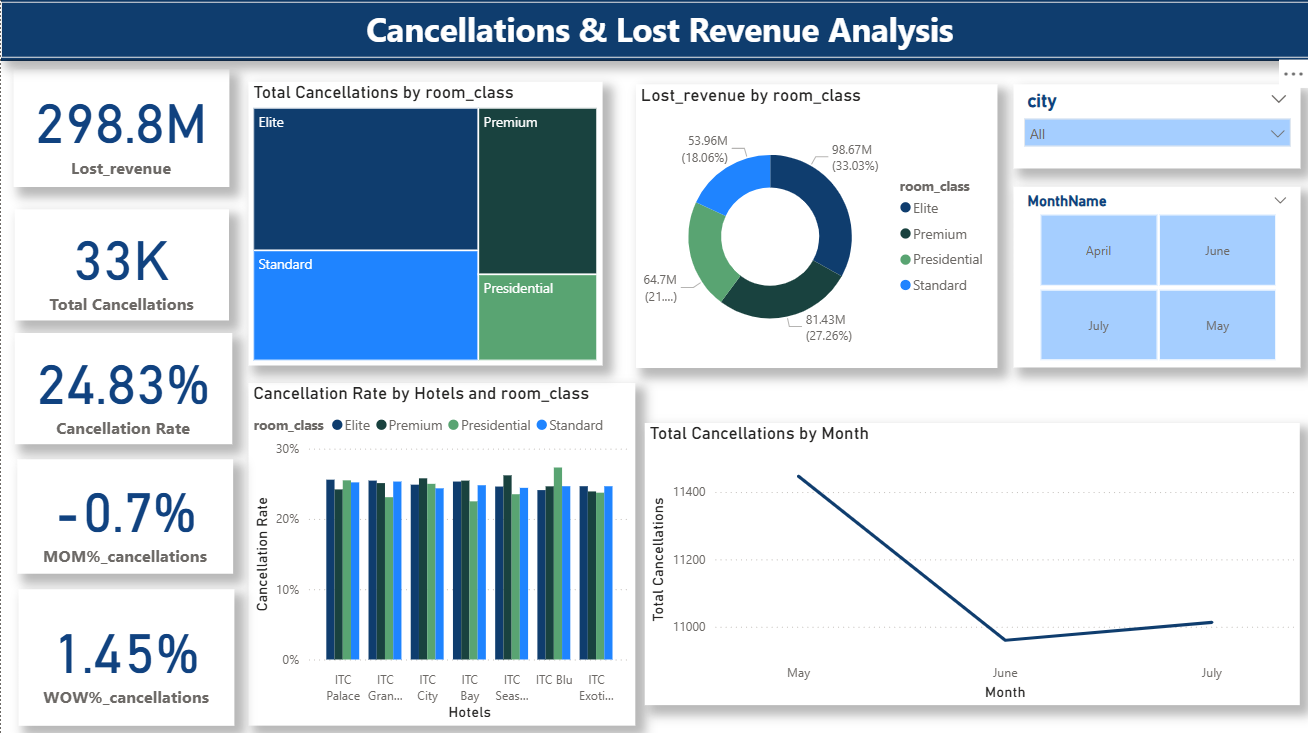

The page's visual inventory and layout, read from the dashboard file:
{"tool":"powerbi","page":{"name":"Cancellations","canvas":[1280,720],"ordinal":3},"visuals":[{"type":"shape","box":[0,0,1280.3,61.9],"z":0},{"type":"card","fields":{"Values":["Measure Table (2).Total Cancellations"]},"box":[14,206.4,209.5,108.6],"z":1000},{"type":"card","fields":{"Values":["Measure Table (2).Cancellation Rate"]},"box":[14,327.5,212.6,108.6],"z":2000},{"type":"card","fields":{"Values":["Measure Table (2).Lost_revenue_DTC"]},"box":[12.4,69.8,211.1,114.8],"z":3000},{"type":"clusteredColumnChart","fields":{"Category":["hotels.property_name"],"Y":["Measure Table (2).Cancellation Rate"],"Series":["rooms.room_class"]},"box":[242.1,377.1,378.7,335.2],"z":4000},{"type":"donutChart","fields":{"Category":["rooms.room_class"],"Y":["Measure Table (2).Lost_revenue_DTC"]},"box":[620.8,83.8,353.8,277.8],"z":5000},{"type":"card","fields":{"Values":["Measure Table (2).MOM%_cancellations"]},"box":[15.5,451.6,211.1,111.7],"z":6000},{"type":"card","fields":{"Values":["Measure Table (2).WOW%_cancellations"]},"box":[17.1,578.9,211.1,133.5],"z":7000},{"type":"lineChart","fields":{"Y":["Measure Table (2).Total Cancellations"],"Category":["Calendar.Date.Variation.Date Hierarchy.Year","Calendar.Date.Variation.Date Hierarchy.Month","Calendar.Date.Variation.Date Hierarchy.Day"]},"box":[630.1,415.9,640.9,276.2],"z":8000},{"type":"treemap","fields":{"Group":["rooms.room_class"],"Values":["Measure Table (2).Total Cancellations"]},"box":[242.1,82.3,346.1,277.8],"z":9000},{"type":"slicer","fields":{"Values":["hotels.city"]},"box":[990.1,83.8,280.9,82.3],"z":10000},{"type":"slicer","fields":{"Values":["Calendar.MonthName"]},"box":[990.1,184.7,280.9,176.9],"z":11000},{"type":"textbox","box":[0,3.1,1280.3,55.9],"z":12000}]}

Visuals, with their boxes in screenshot pixels (x1, y1, x2, y2), scaled from the page's 1280x720 canvas onto the 1308x733 screenshot:
shape: [0, 0, 1307, 63]
card - Measure Table (2).Total Cancellations: [14, 210, 228, 321]
card - Measure Table (2).Cancellation Rate: [14, 333, 232, 444]
card - Measure Table (2).Lost_revenue_DTC: [13, 71, 228, 188]
clusteredColumnChart - hotels.property_name x Measure Table (2).Cancellation Rate: [247, 384, 634, 725]
donutChart - rooms.room_class x Measure Table (2).Lost_revenue_DTC: [634, 85, 996, 368]
card - Measure Table (2).MOM%_cancellations: [16, 460, 232, 573]
card - Measure Table (2).WOW%_cancellations: [17, 589, 233, 725]
lineChart - Measure Table (2).Total Cancellations x Calendar.Date.Variation.Date Hierarchy.Year: [644, 423, 1299, 705]
treemap - rooms.room_class x Measure Table (2).Total Cancellations: [247, 84, 601, 367]
slicer - hotels.city: [1012, 85, 1299, 169]
slicer - Calendar.MonthName: [1012, 188, 1299, 368]
textbox: [0, 3, 1307, 60]
